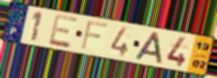1: (31, 11, 44, 43)
4: (165, 36, 188, 68), (110, 25, 131, 58)
A: (134, 31, 163, 65)
E: (47, 13, 80, 50)
F: (79, 19, 111, 51)
